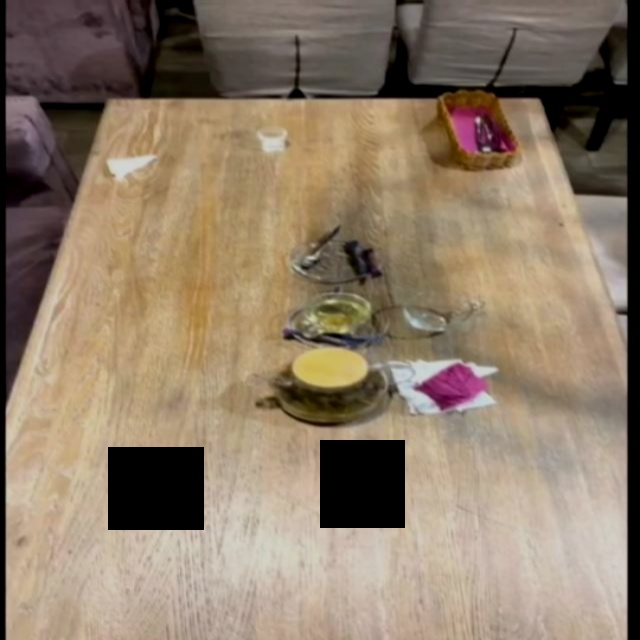tea: (268, 346, 390, 424)
